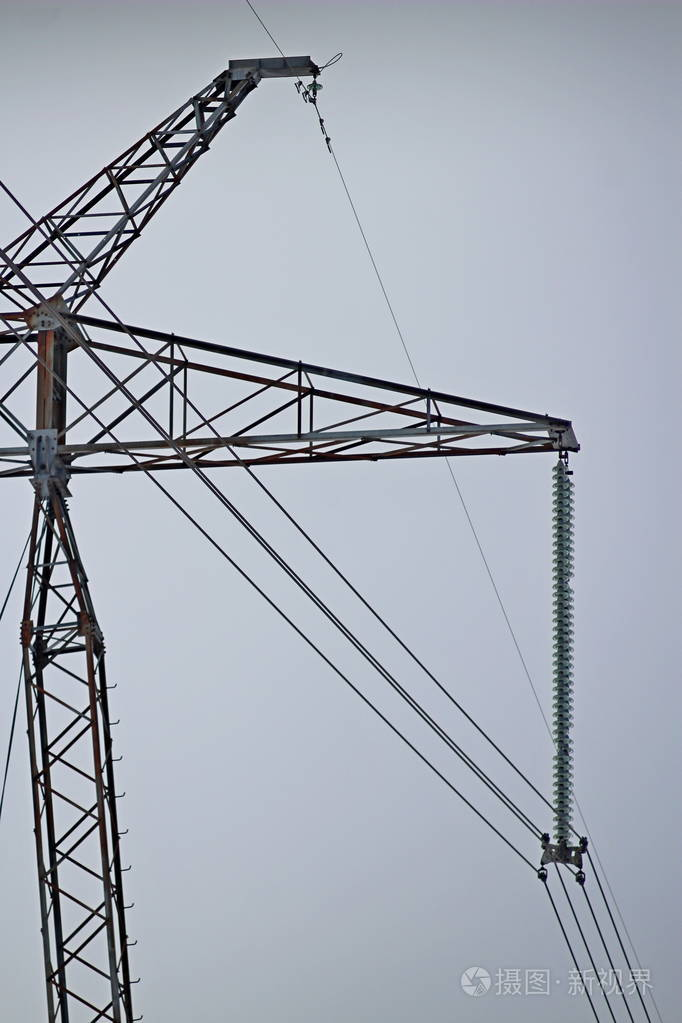insulator: (551, 467, 581, 842)
